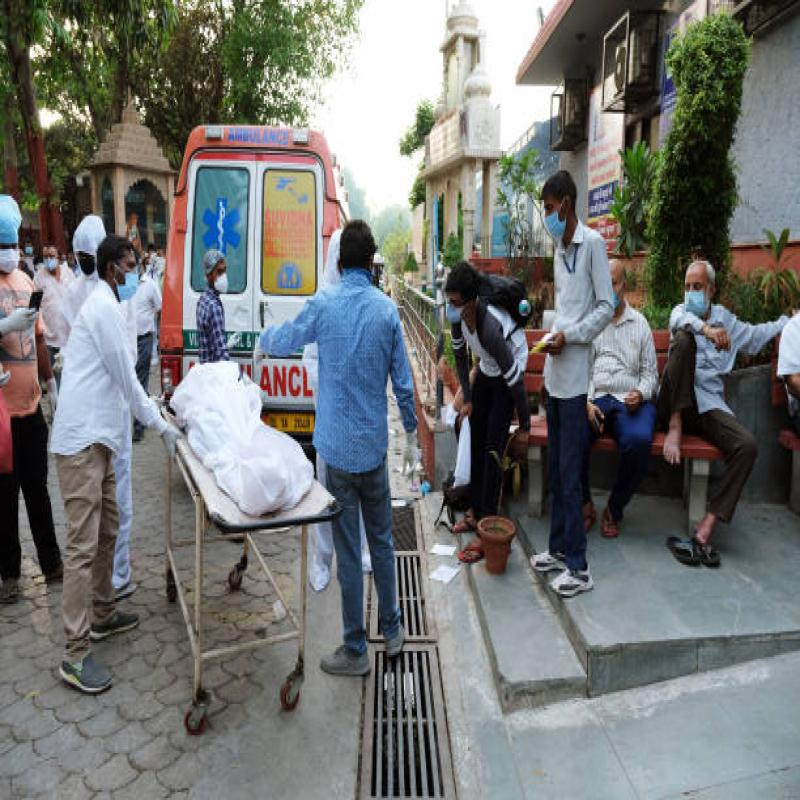ambulance: (156, 90, 363, 441)
